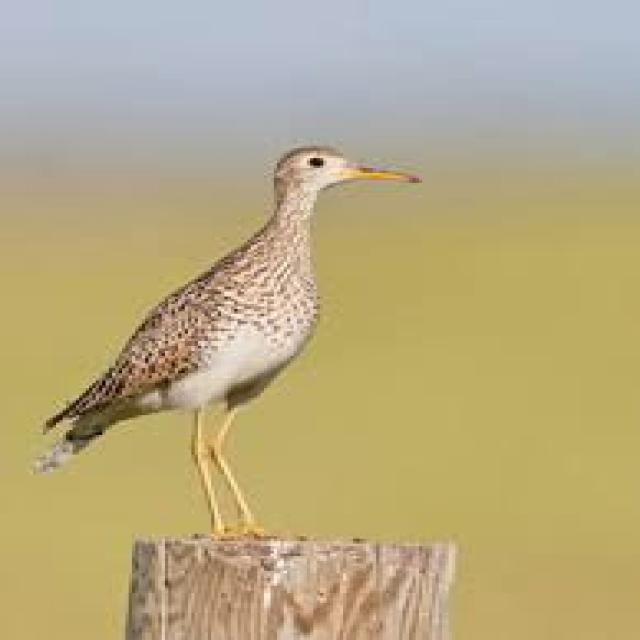sandpiper: (36, 146, 419, 526)
